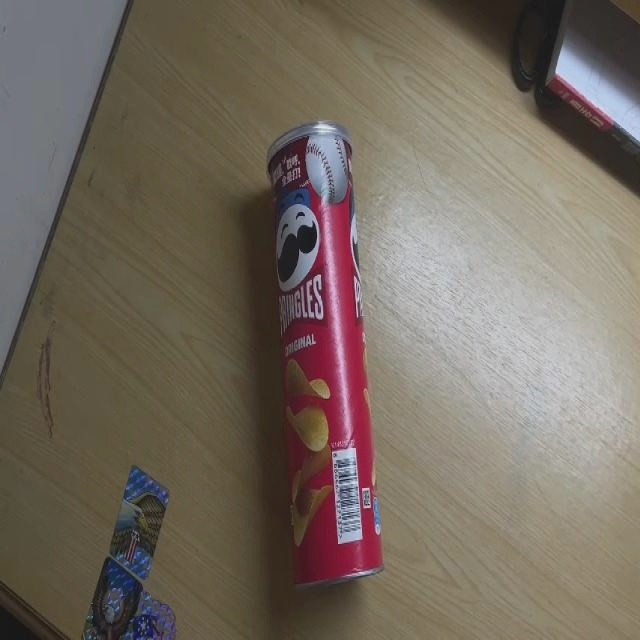Pringles: (267, 120, 385, 597)
